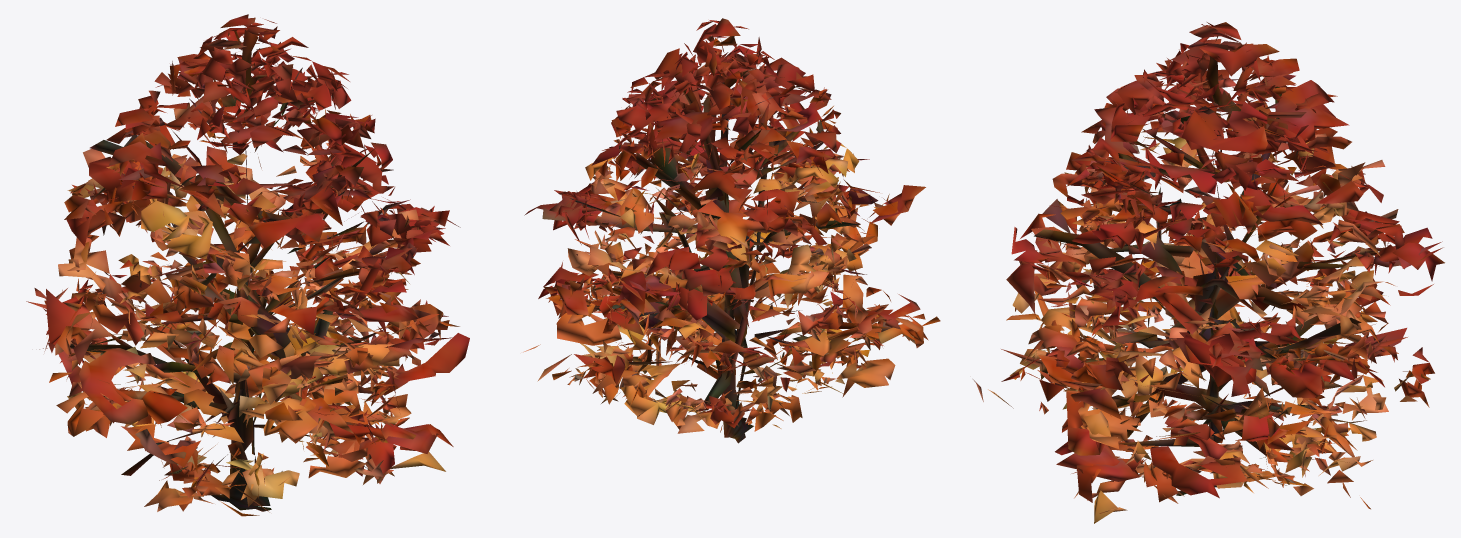
Rendered from tree_10_red_maple.glb.
3 views of the same model, side by side, from view 1: azimuth 30°, elevation 25°; view 2: azimuth 150°, elevation 25°; view 3: azimuth 270°, elevation 25° (orthographic). The views are drawn at different scales.
Parts seen in each view (by area): view 1: geometry_0; view 2: geometry_0; view 3: geometry_0.
Part boxes in pixels (x1,y1,x2,y2): geometry_0: (26,14,469,516); geometry_0: (523,18,940,443); geometry_0: (973,22,1444,523).
Bounding box in the file's own units: 0.8705 × 1 × 0.8533.
1 material, 1 textured.
